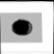correct: (6, 15, 36, 37)
